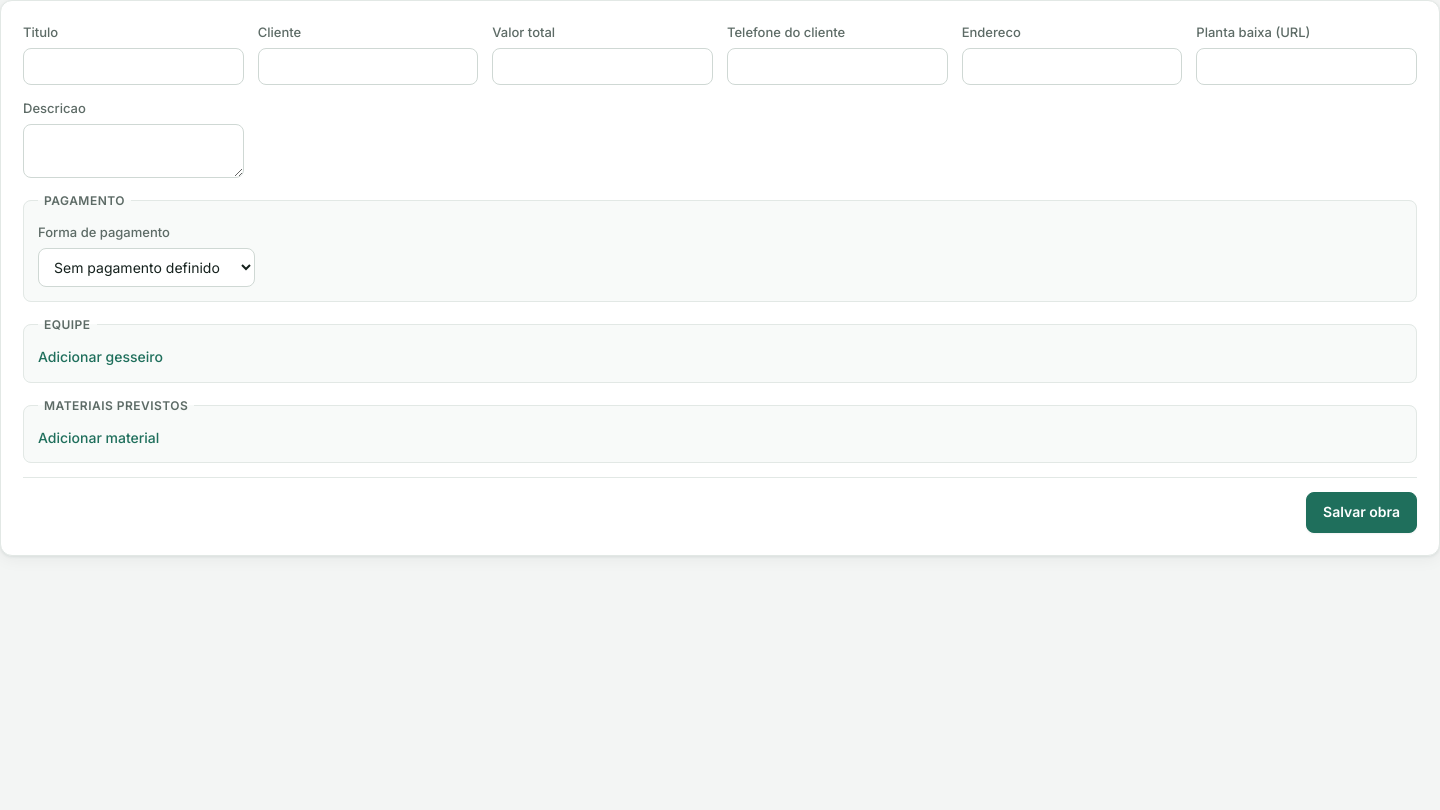
Test: NovaObraForm › mostra o erro da API sem perder o que foi preenchido
Type "Forro sala" into the field labelled "Titulo" at {"x": 133, "y": 66}, box [23,48,244,85]
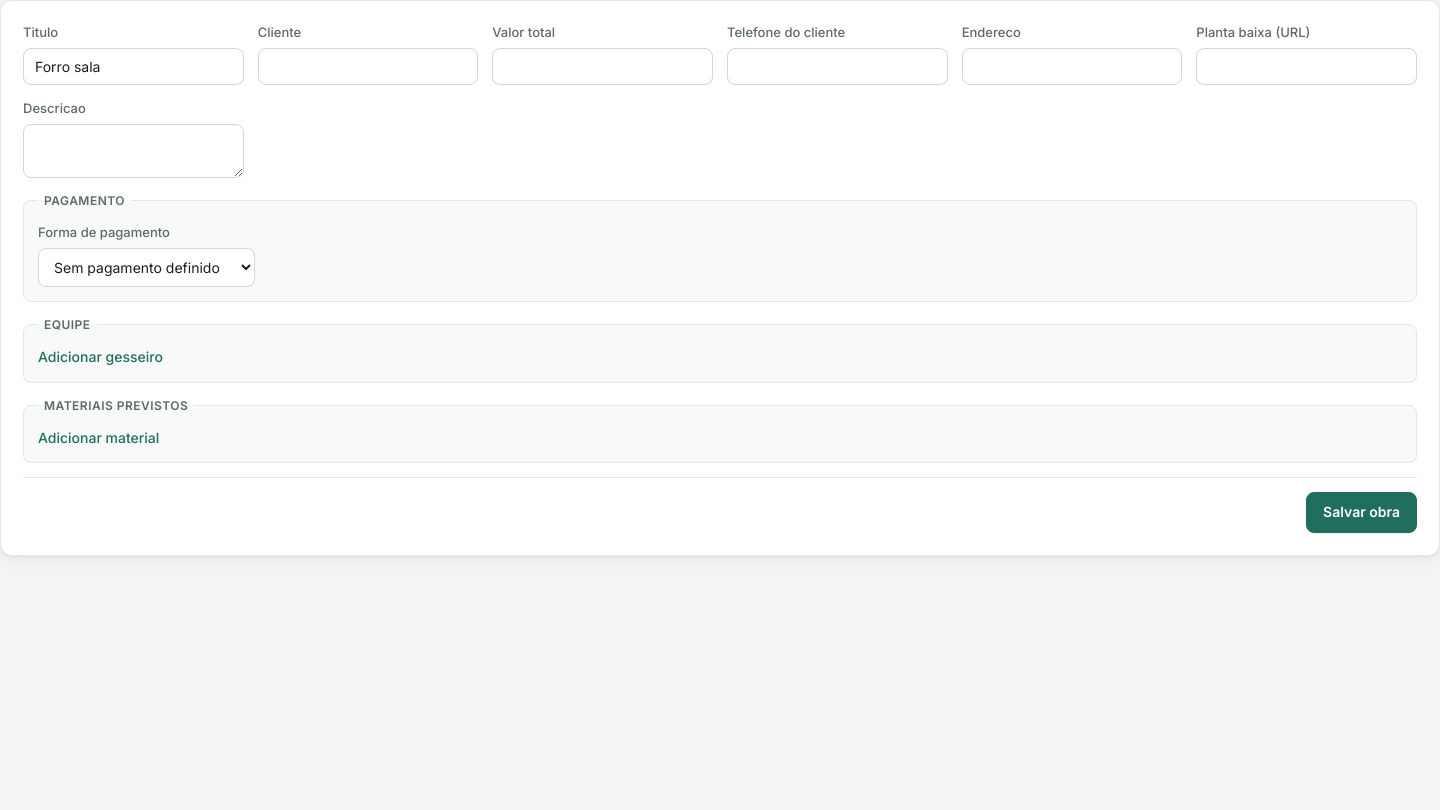
Type "Maria Silva" into the field labelled "Cliente" at {"x": 368, "y": 66}, box [258,48,478,85]
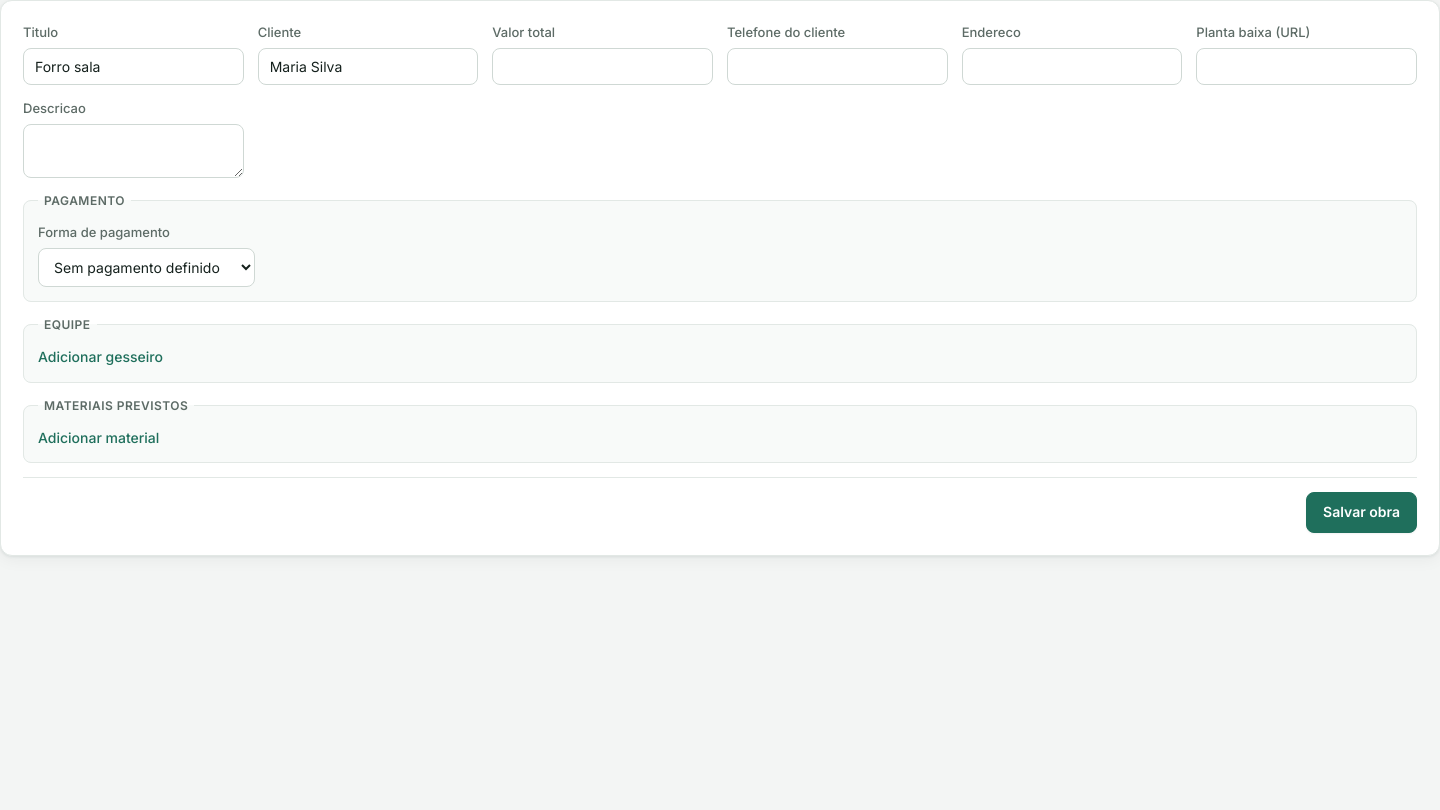
Type "8500" into the number field labelled "Valor total" at {"x": 603, "y": 66}, box [492,48,713,85]
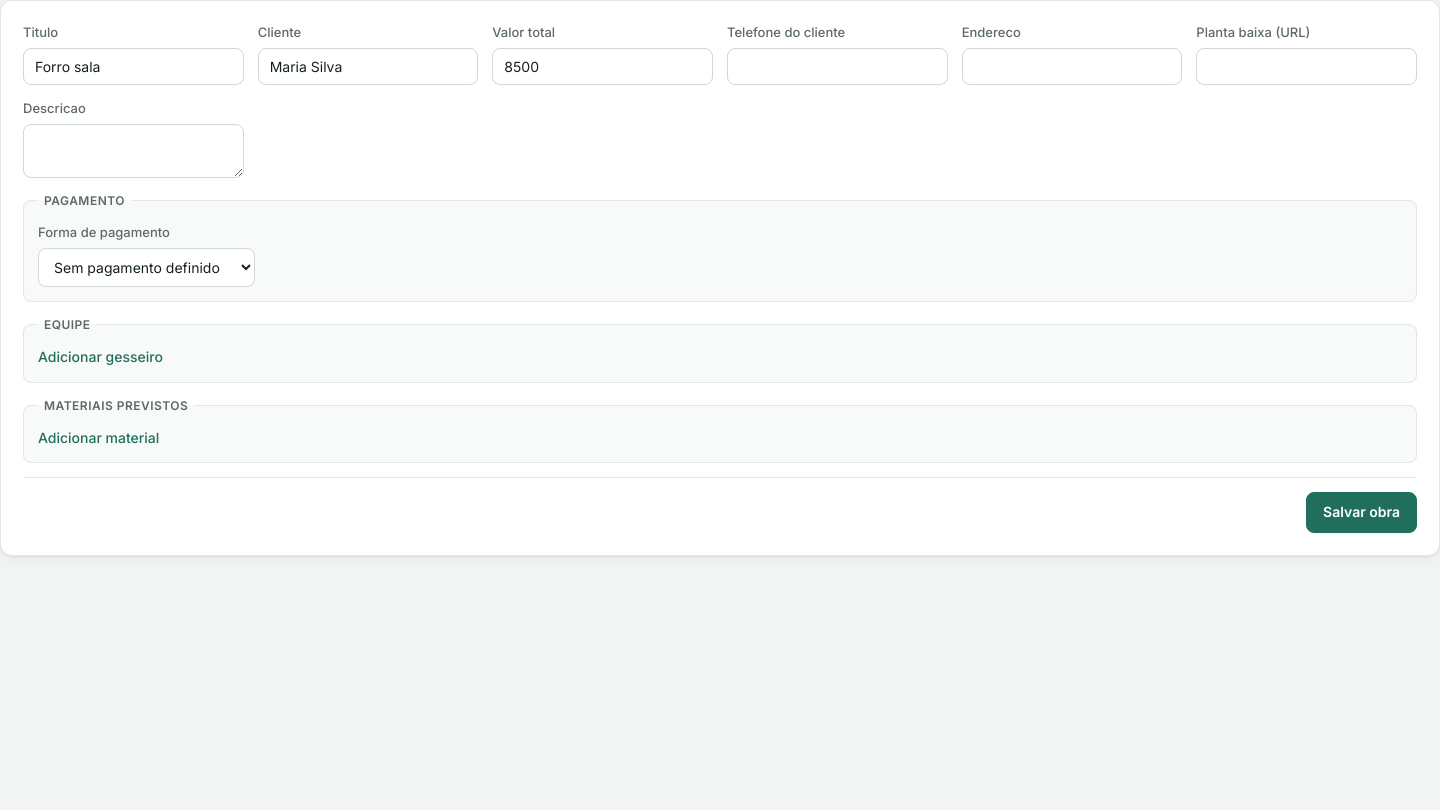
Replace the text in the field labelled "Titulo" with "Fo" at {"x": 133, "y": 66}, box [23,48,244,85]
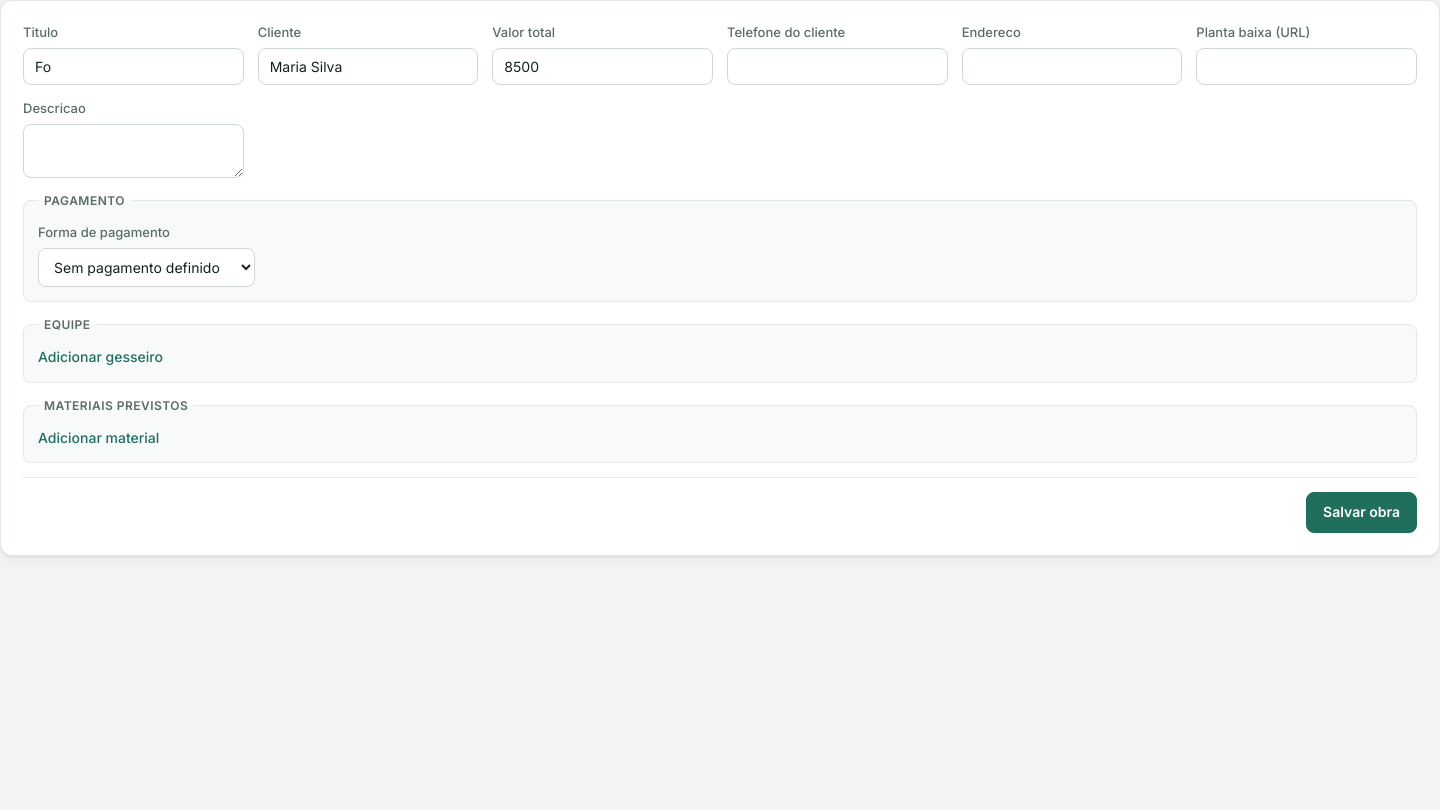
Click the button "Salvar obra" at {"x": 1362, "y": 512}, box [1306,492,1417,533]
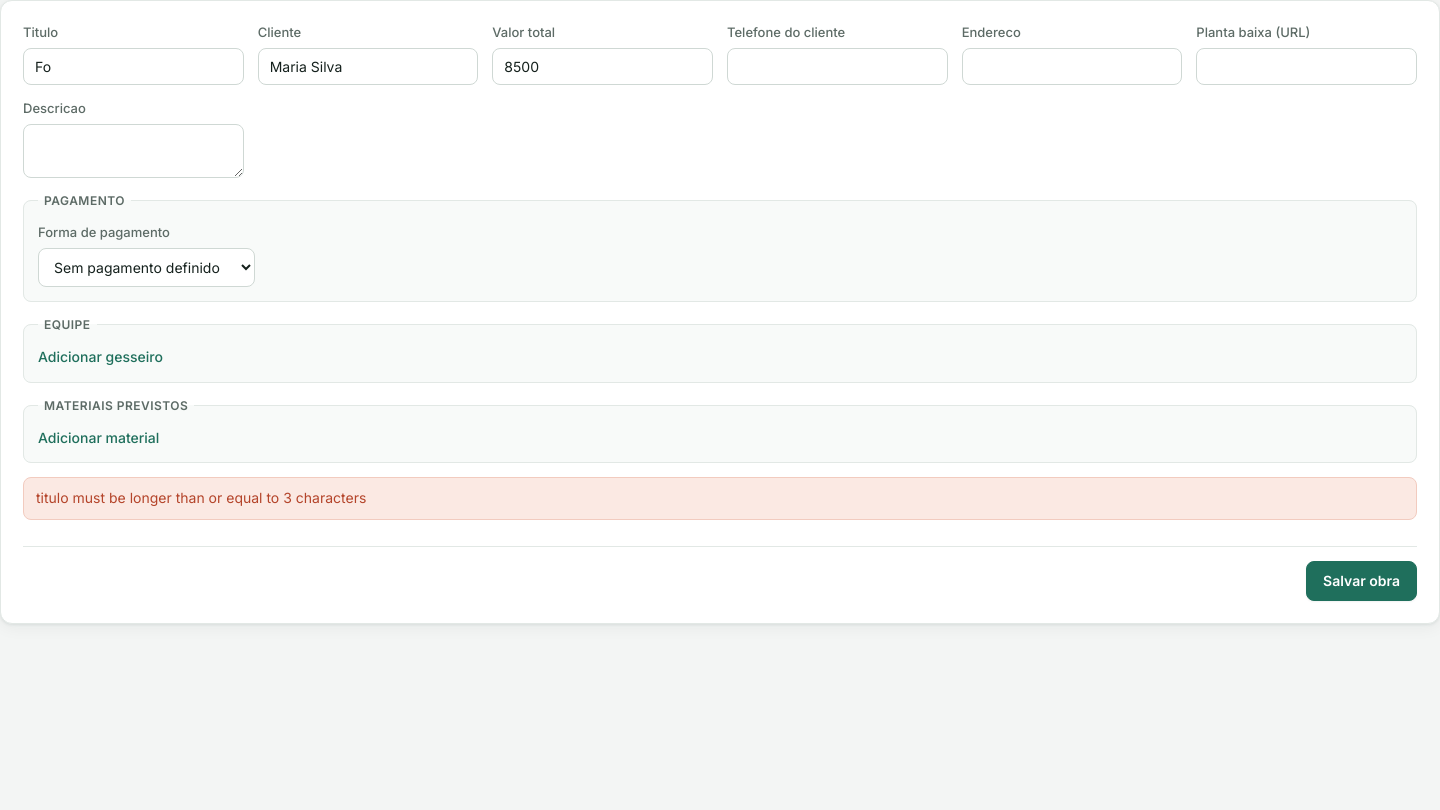
Now the text "titulo must be longer than or equal to 3 characters" is shown, box [23,477,1417,520]
